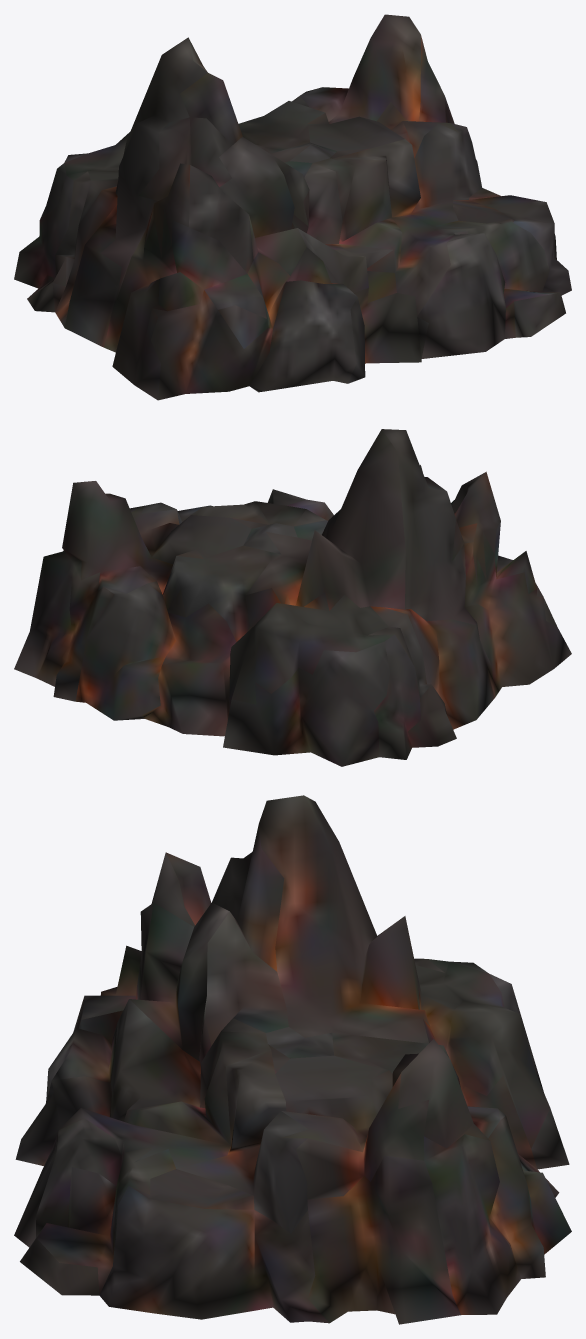
Rendered from rock_outcrop-lod1.glb.
3 views of the same model, one above another, from view 1: azimuth 30°, elevation 25°; view 2: azimuth 150°, elevation 25°; view 3: azimuth 270°, elevation 25° (orthographic). The views are drawn at different scales.
Visible parts, largest first — view 1: tripo_node_cad07bcc-7fe2-4bc9-80e5-b59e5b4d1b3c; view 2: tripo_node_cad07bcc-7fe2-4bc9-80e5-b59e5b4d1b3c; view 3: tripo_node_cad07bcc-7fe2-4bc9-80e5-b59e5b4d1b3c.
Part boxes in pixels (x1,y1,x2,y2): tripo_node_cad07bcc-7fe2-4bc9-80e5-b59e5b4d1b3c: (14, 14, 571, 400); tripo_node_cad07bcc-7fe2-4bc9-80e5-b59e5b4d1b3c: (14, 429, 571, 766); tripo_node_cad07bcc-7fe2-4bc9-80e5-b59e5b4d1b3c: (14, 795, 571, 1324).
Bounding box in the file's own units: 5.13 × 3 × 4.54.
Materials: 1 (1 with a texture image).
